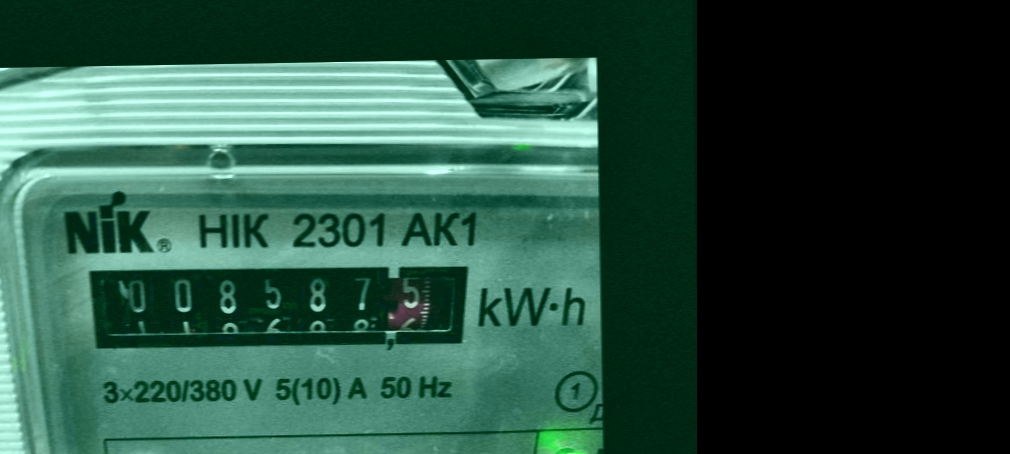0: (169, 274, 194, 315)
1: (123, 275, 148, 317)
5: (398, 272, 423, 312), (260, 274, 284, 312)
7: (349, 273, 373, 315)
8: (213, 276, 239, 317), (305, 274, 327, 316)
screen: (68, 244, 488, 371)
